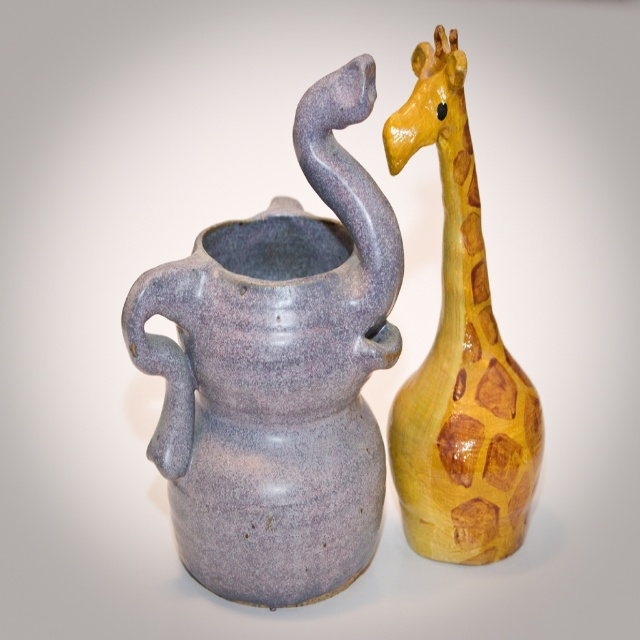Giraffe: (370, 43, 546, 602)
